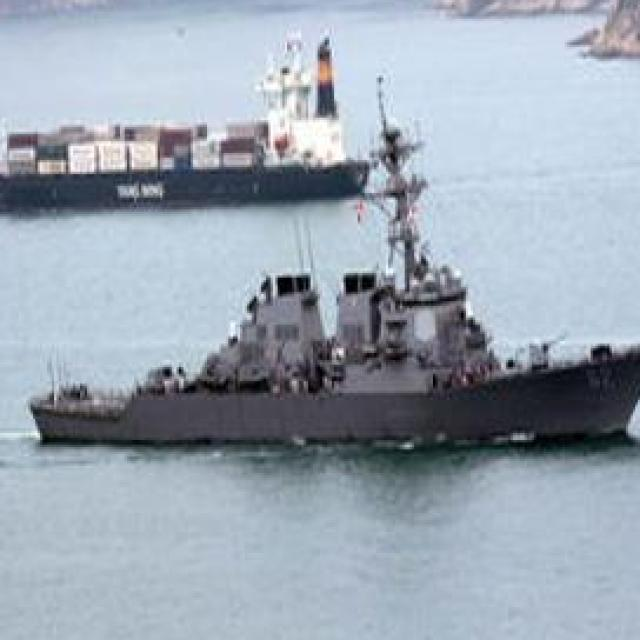cargoship: (0, 21, 362, 209)
navalvessels: (26, 125, 640, 459)
